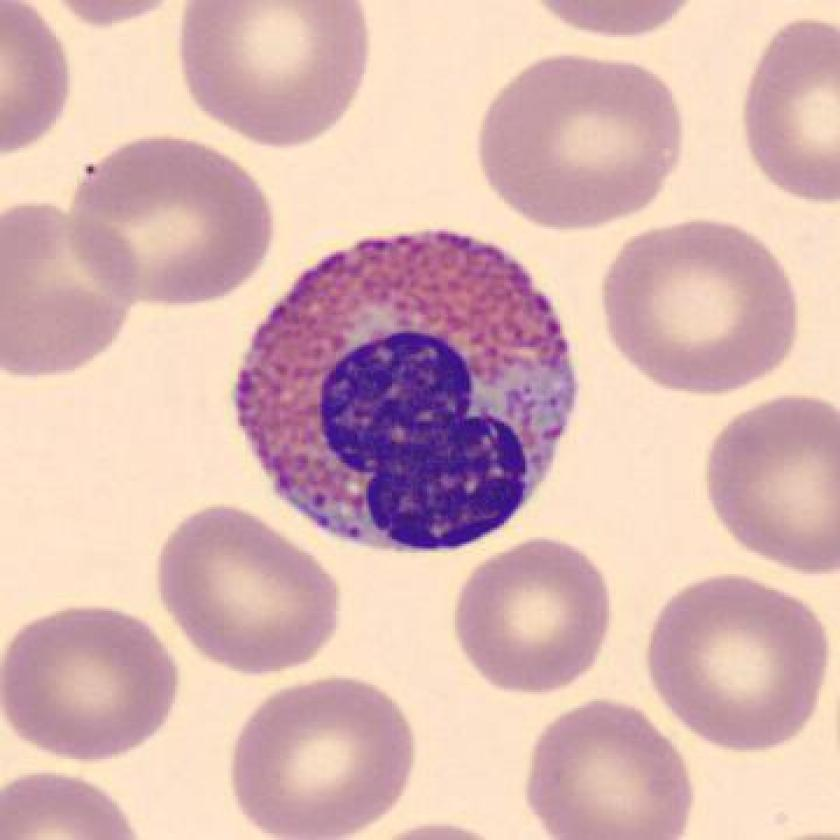eosinophil: (223, 211, 591, 575)
